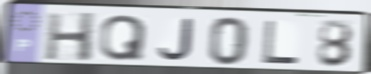0: (207, 15, 252, 67)
8: (315, 19, 354, 69)
H: (43, 11, 98, 64)
J: (156, 17, 194, 62)
L: (261, 19, 301, 66)
Q: (97, 13, 148, 63)
